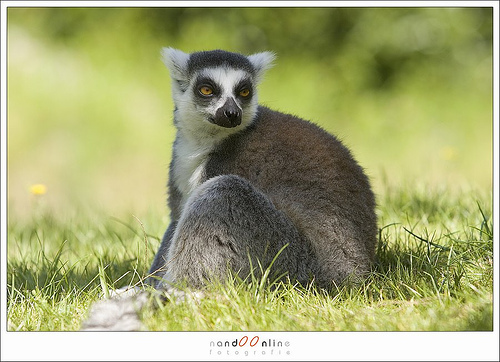cat: (81, 44, 382, 333)
